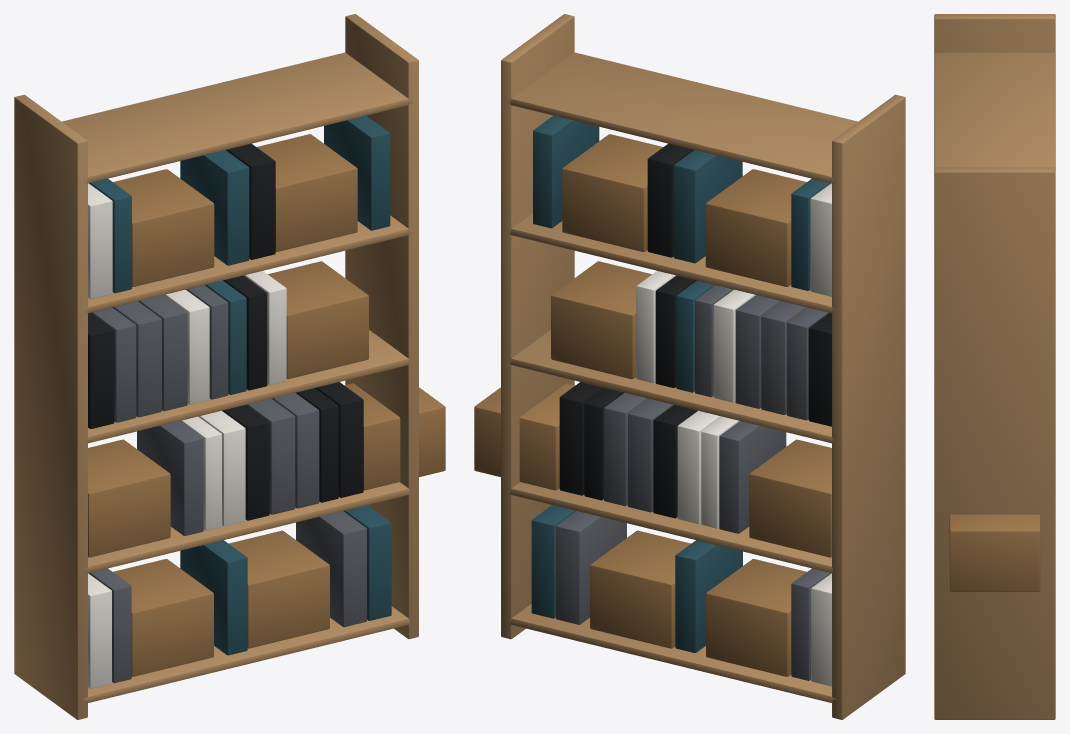
The model's file is vantage_shelves.glb.
3 views of the same model, side by side, from view 1: azimuth 30°, elevation 25°; view 2: azimuth 150°, elevation 25°; view 3: azimuth 270°, elevation 25° (orthographic). The views are drawn at different scales.
Visible parts, largest first — view 1: vantage_shelves; view 2: vantage_shelves; view 3: vantage_shelves.
Part boxes in pixels (left/top/right/bottom): vantage_shelves: left=14, top=14, right=445, bottom=719; vantage_shelves: left=474, top=14, right=905, bottom=719; vantage_shelves: left=934, top=14, right=1055, bottom=719.
Bounding box in the file's own units: 1.37 × 2 × 0.4.
